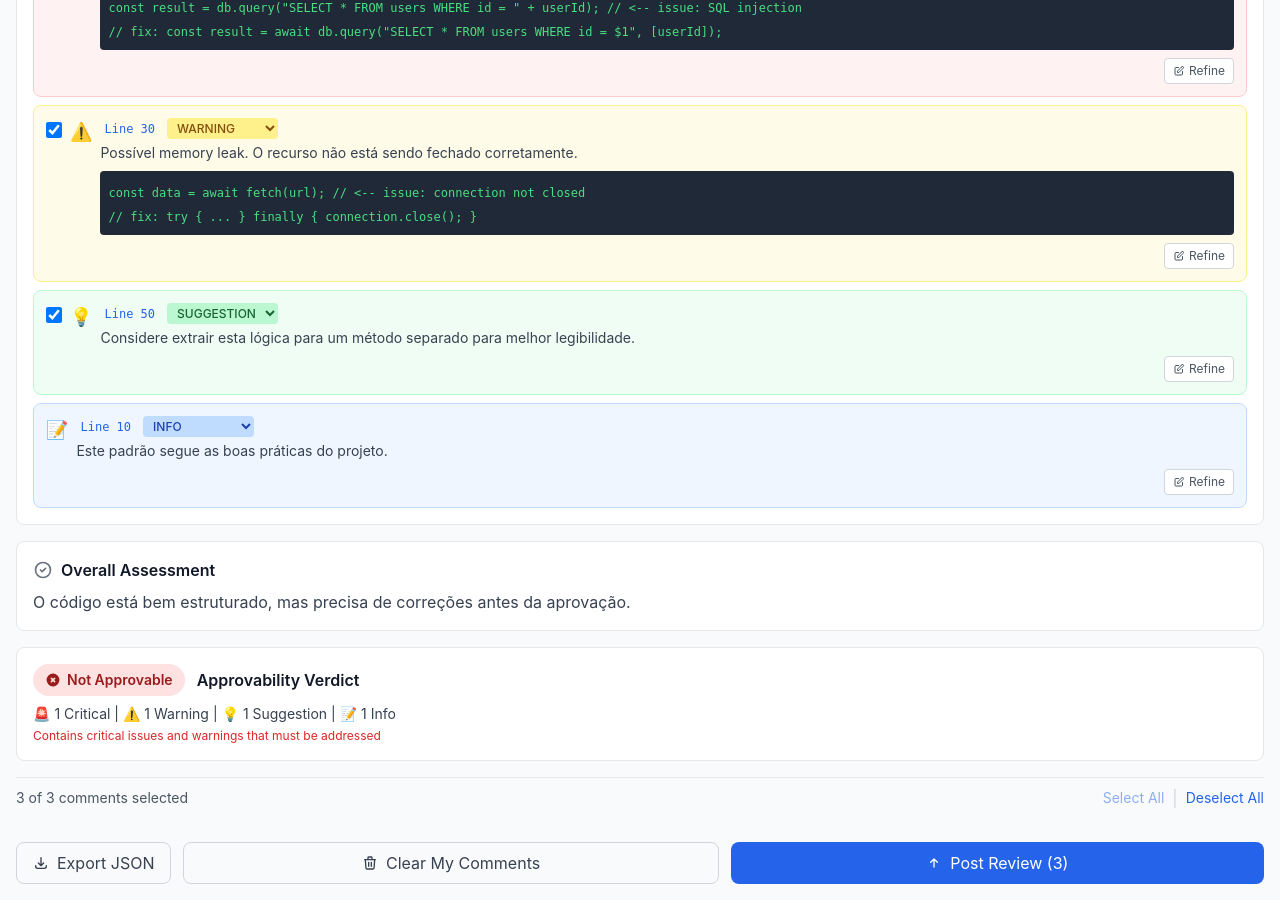
Test: ReviewDisplayView › Comment Selection › should deselect all comments when Deselect All is clicked
(page scrolled)
What coordinates should you click on to do the following:
click the button "Deselect All"
I would click on:
 (1225, 798)
Its box is [1186,786,1264,810].
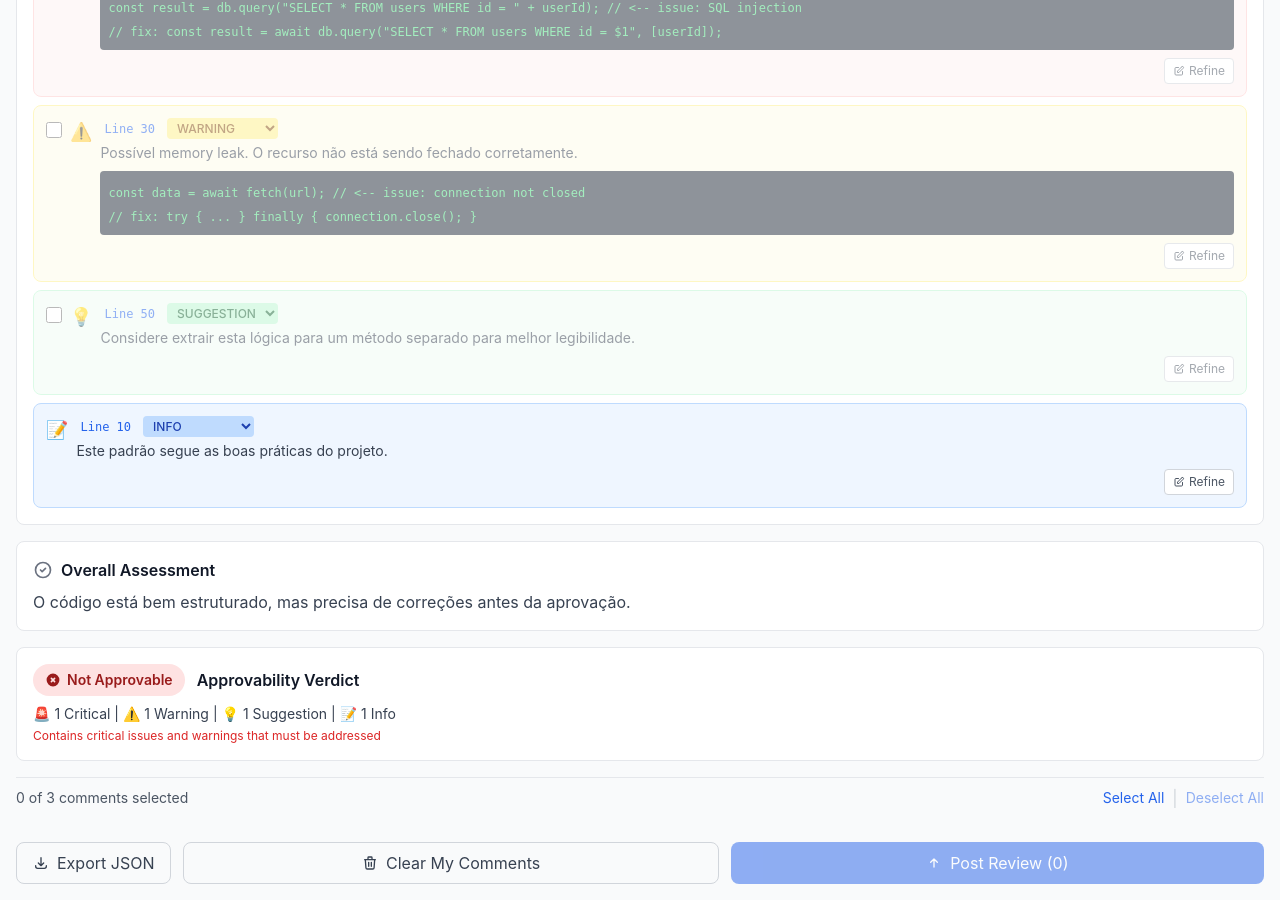
expect the text "0 of 3 comments selected" is shown: met, box [16,788,188,808]
